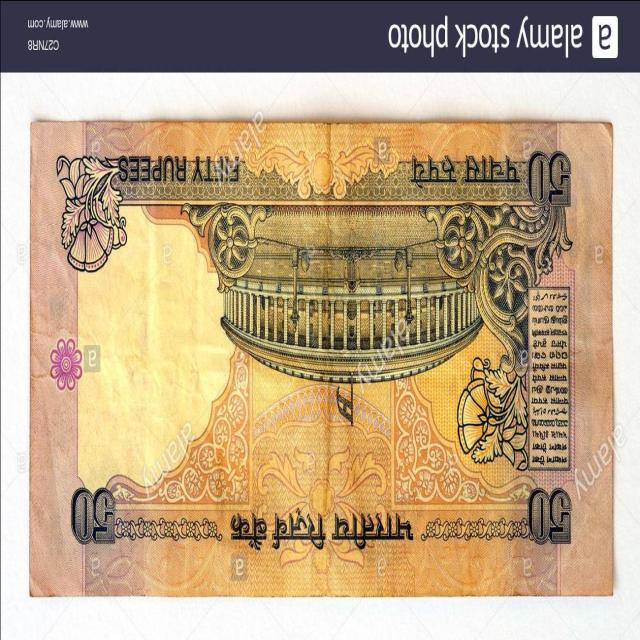50IndianRupees: (34, 117, 615, 596), (202, 120, 616, 594)
